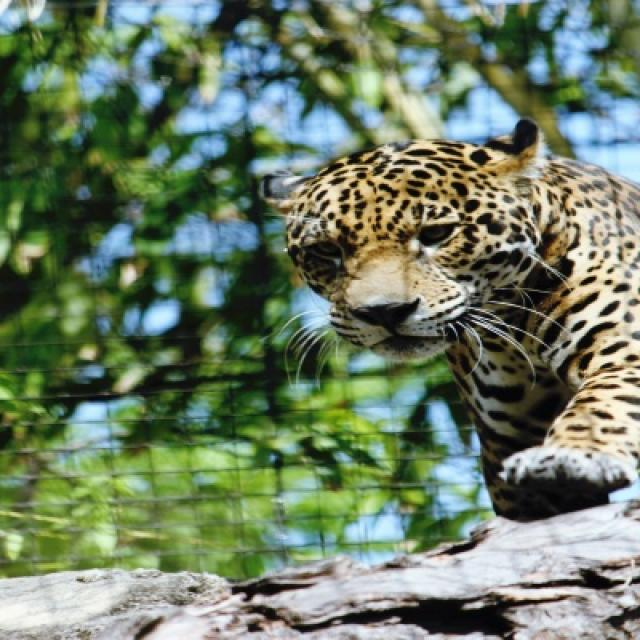Jaguar: (267, 120, 638, 523)
